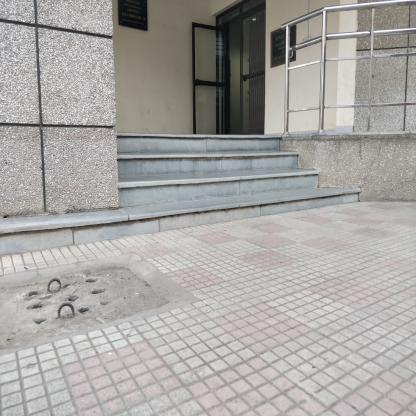stairs: (119, 134, 279, 233)
